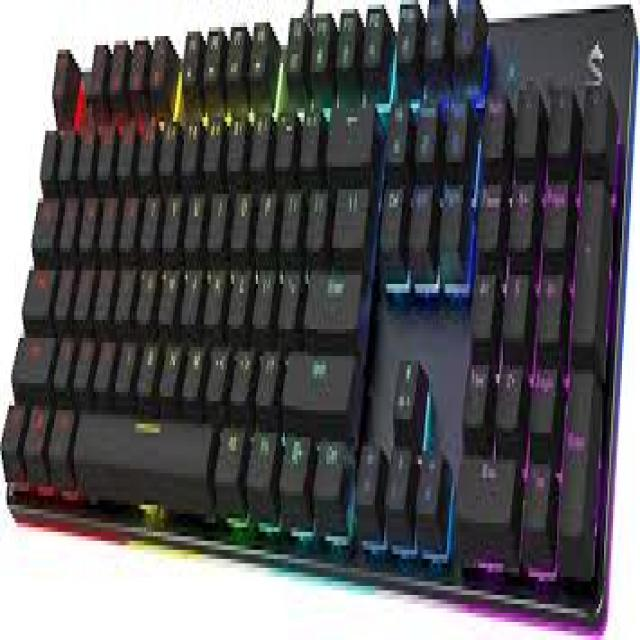others: (3, 4, 636, 640)
